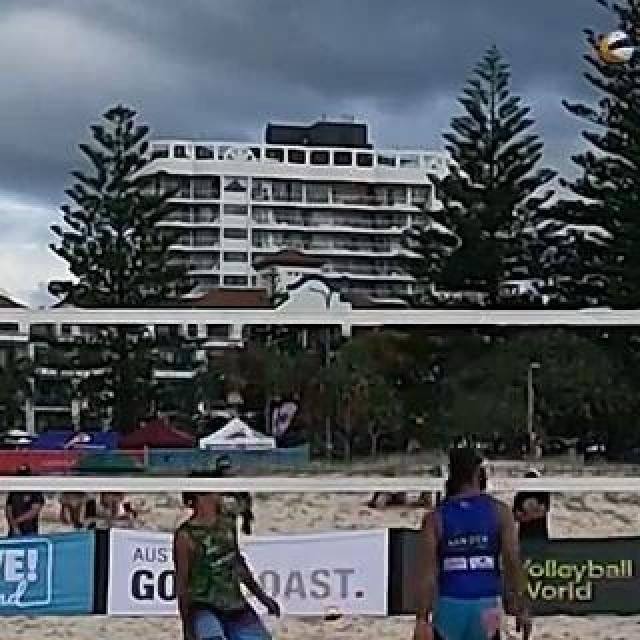volleyball: (595, 30, 635, 66), (322, 603, 344, 623)
